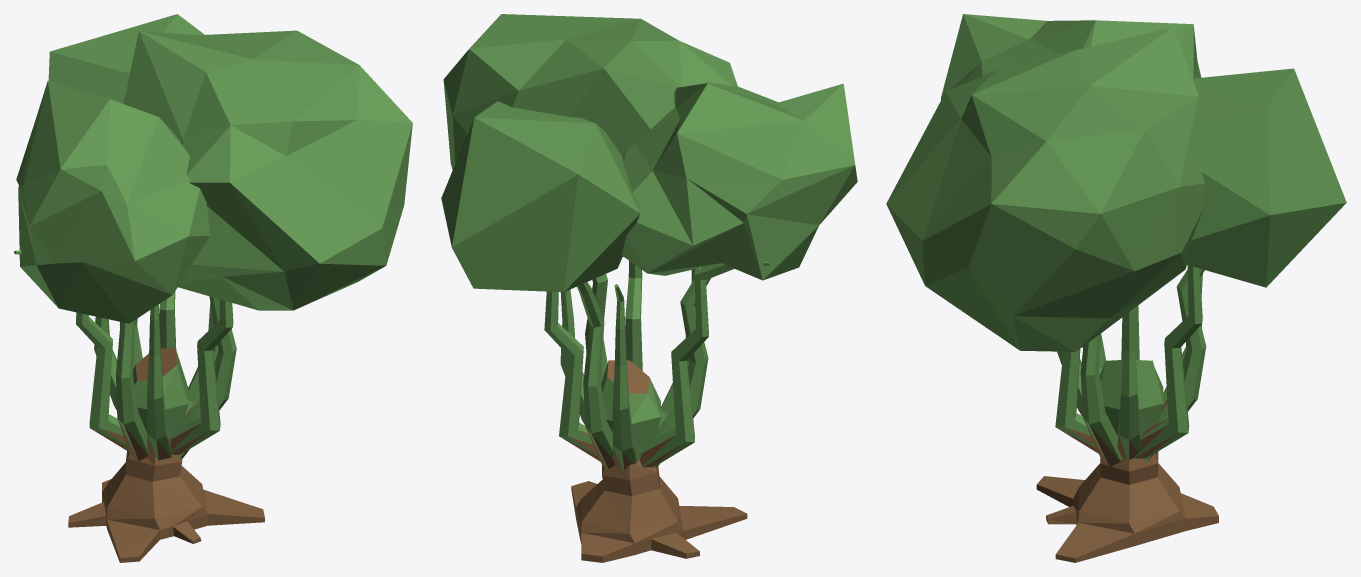
File: tree3d-194.glb
3 views of the same model, side by side, from view 1: azimuth 30°, elevation 25°; view 2: azimuth 150°, elevation 25°; view 3: azimuth 270°, elevation 25° (orthographic). The views are drawn at different scales.
Visible parts, largest first — view 1: tree3d-194; view 2: tree3d-194; view 3: tree3d-194.
Boxes of the visible parts, <box> form: tree3d-194: <box>14,14,412,562</box>; tree3d-194: <box>441,14,857,562</box>; tree3d-194: <box>886,14,1346,562</box>.
Bounding box in the file's own units: 0.8293 × 1 × 0.8424.
